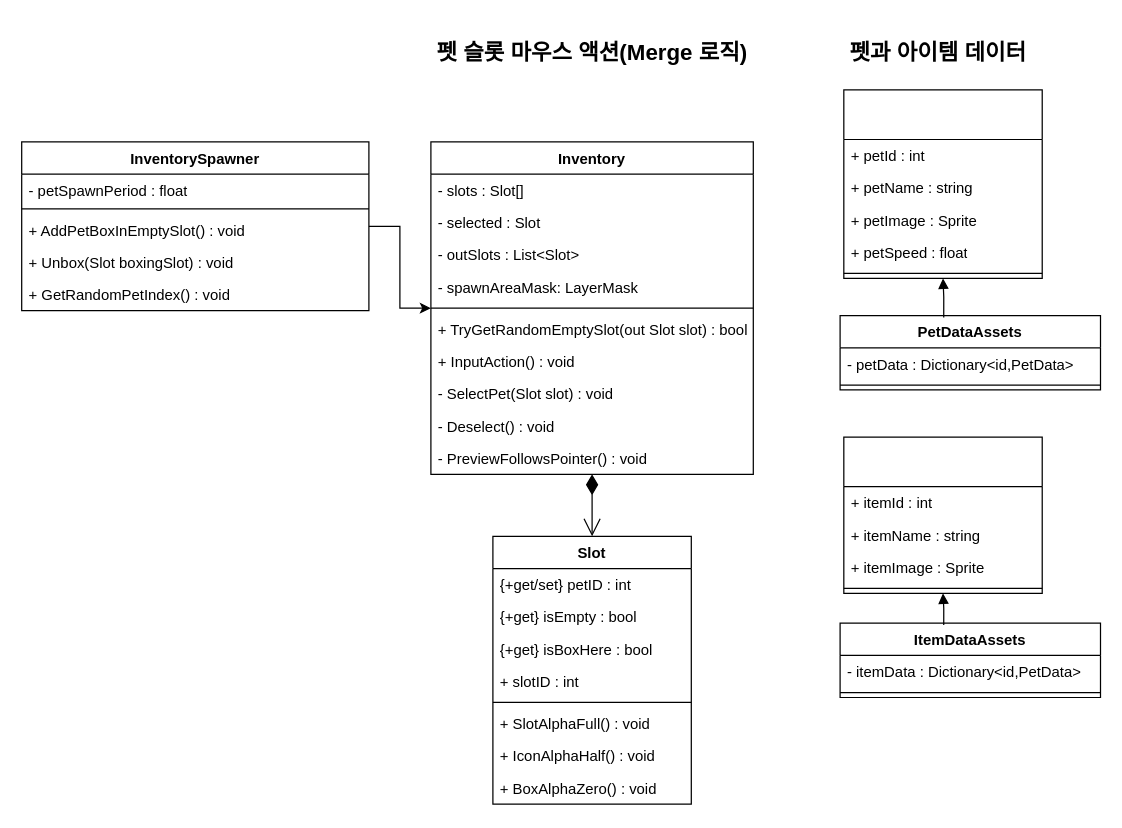
Some shapes in this 1122 by 828 pixel diagram are drawn without their labels. The box of each missing label's shape, as (x1, y1, x2, y2) in pixels:
<<ScriptableObject>> ItemData: (843, 436, 1042, 593)
<<ScriptableObject>> PetData: (843, 89, 1042, 278)
